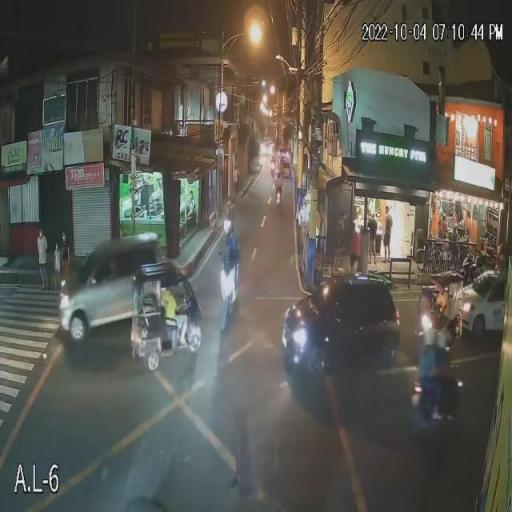helmet: (436, 331, 462, 356), (422, 327, 438, 351)
motorcycle: (395, 366, 467, 449)
rider: (413, 342, 444, 425), (433, 354, 456, 423)
